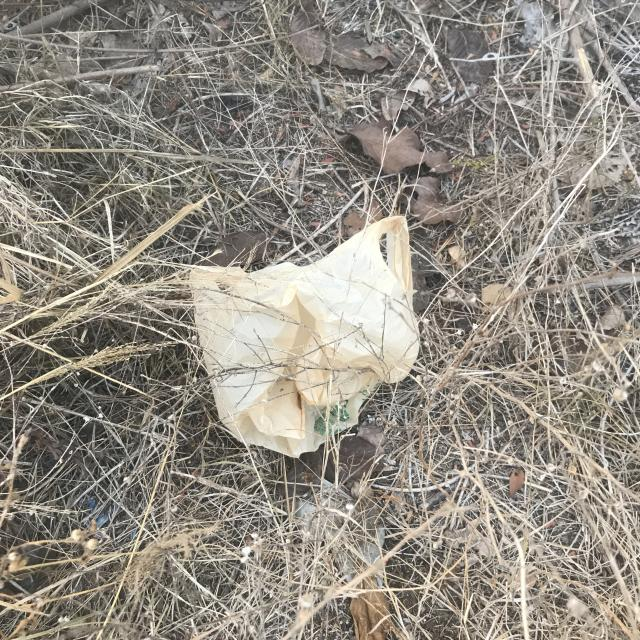Single-layer Plastic: (156, 211, 487, 455)
